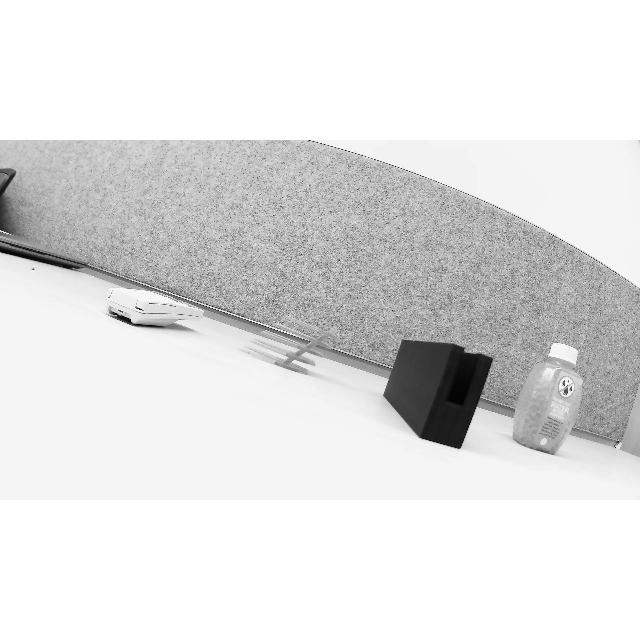targets: (382, 338, 501, 449), (513, 331, 597, 453), (244, 310, 346, 376), (101, 284, 205, 328)
